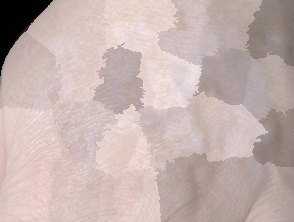vitiligo: (21, 0, 294, 206)
